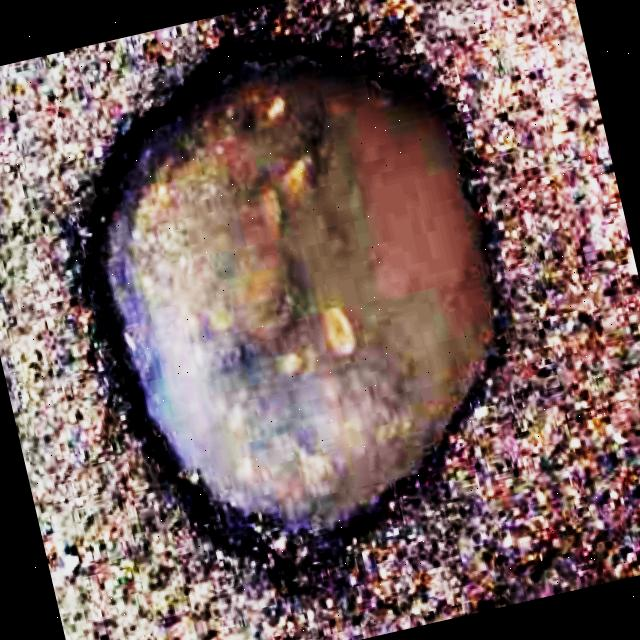pothole: (32, 0, 575, 617)
